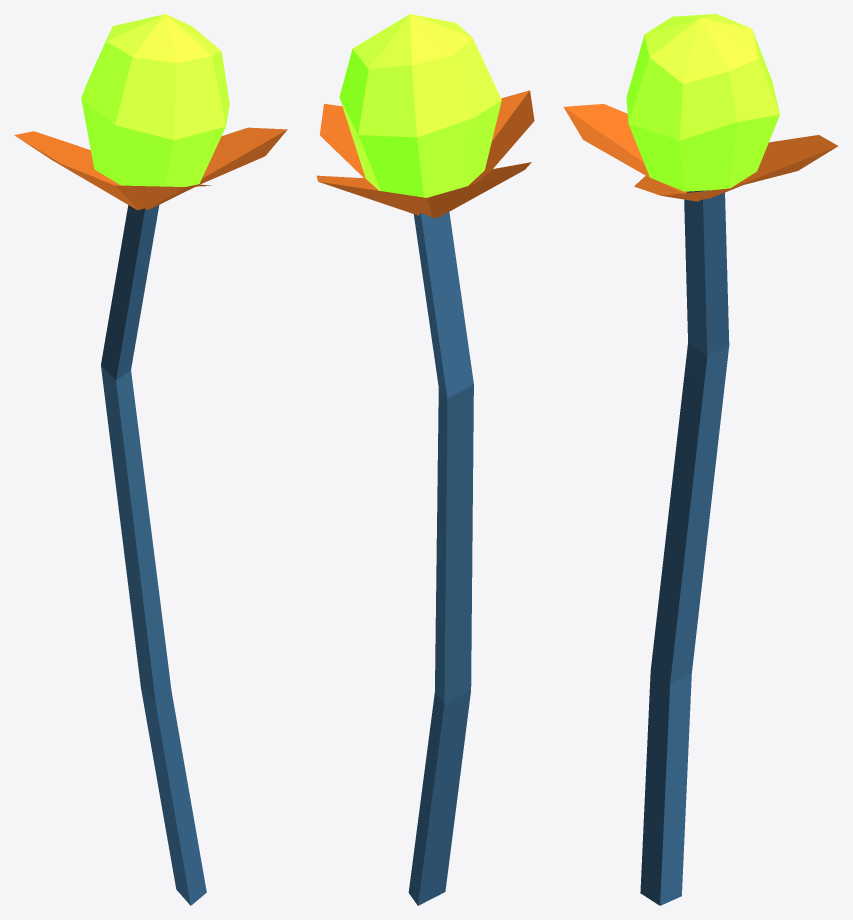
File: scifi_scifi-plant-orb-medium.fbx
3 renders of one model, left to right at view 1: azimuth 30°, elevation 25°; view 2: azimuth 150°, elevation 25°; view 3: azimuth 270°, elevation 25°, orthographic. The views are drawn at different scales.
Parts seen in each view (by area): view 1: scifi_scifi_plant_orb_medium; view 2: scifi_scifi_plant_orb_medium; view 3: scifi_scifi_plant_orb_medium.
Part boxes in pixels (<box>): scifi_scifi_plant_orb_medium: <box>14,14,287,905</box>; scifi_scifi_plant_orb_medium: <box>316,14,534,905</box>; scifi_scifi_plant_orb_medium: <box>563,14,837,905</box>.
Size of the model in its own units: 56.37 by 200 by 56.82.
